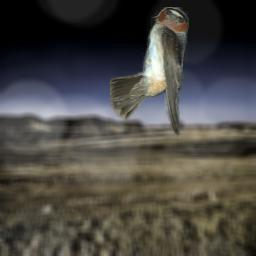Swallow: (110, 7, 189, 137)
